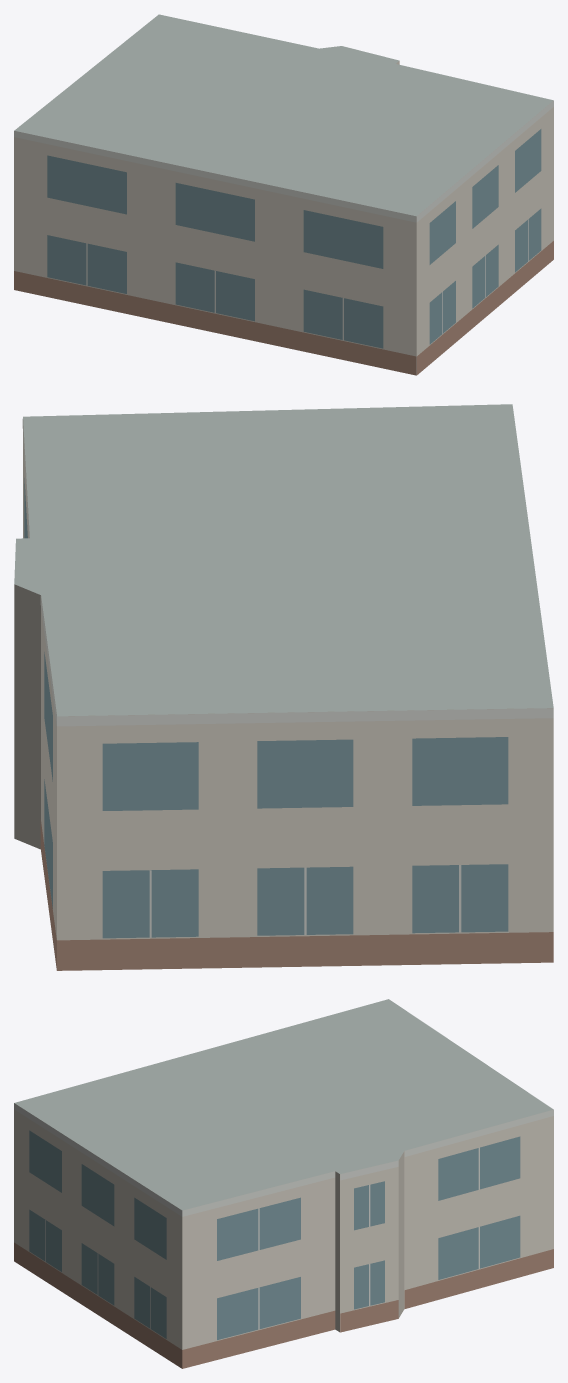
File: survey-upis-32962078.glb
3 views of the same model, one above another, from view 1: azimuth 30°, elevation 25°; view 2: azimuth 150°, elevation 25°; view 3: azimuth 270°, elevation 25° (orthographic). The views are drawn at different scales.
Visible parts, largest first — view 1: survey-upis-32962078.tmp; view 2: survey-upis-32962078.tmp; view 3: survey-upis-32962078.tmp.
Part boxes in pixels (left/top/right/bottom): survey-upis-32962078.tmp: left=14, top=14, right=553, bottom=375; survey-upis-32962078.tmp: left=14, top=404, right=553, bottom=970; survey-upis-32962078.tmp: left=14, top=999, right=553, bottom=1368.
Size of the model in its own units: 17.49 by 6.1 by 18.86.
